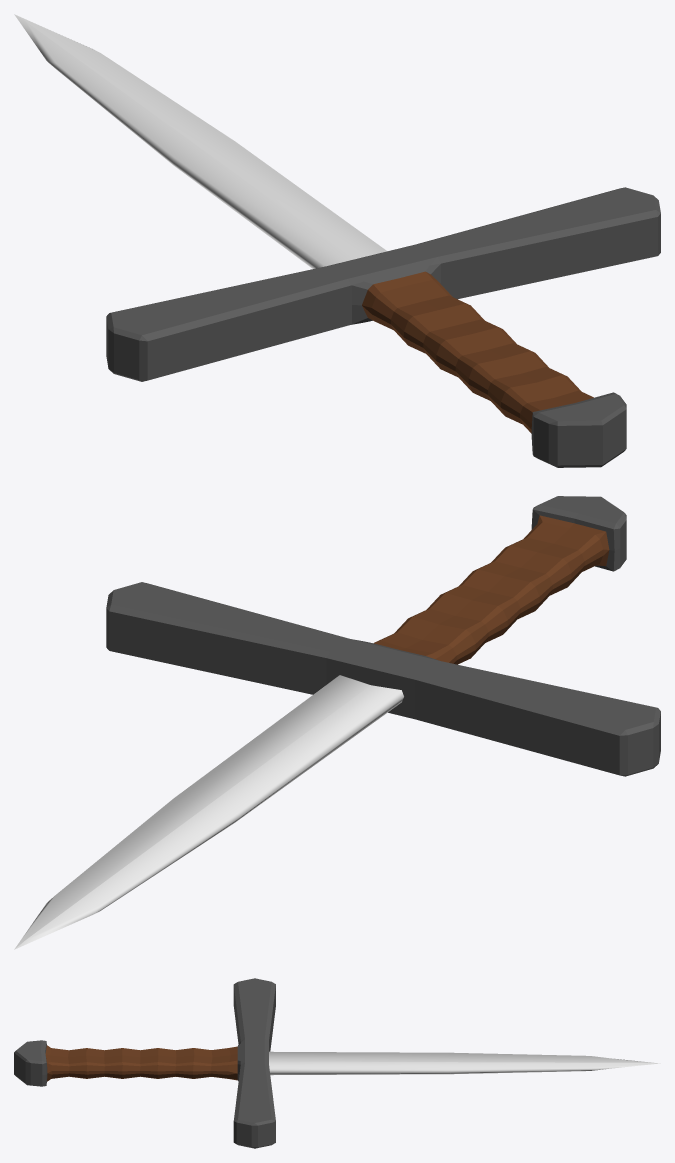
File: Estilete.fbx
The picture shows the model from 3 angles, top to bottom: view 1: azimuth 30°, elevation 25°; view 2: azimuth 150°, elevation 25°; view 3: azimuth 270°, elevation 25°; orthographic projection. The views are drawn at different scales.
Parts seen in each view (by area): view 1: Estilete; view 2: Estilete; view 3: Estilete.
Part boxes in pixels (x1,y1,x2,y2): Estilete: [14, 14, 660, 467]; Estilete: [14, 496, 660, 949]; Estilete: [14, 978, 660, 1148].
Size of the model in its own units: 61.07 by 5 by 114.
